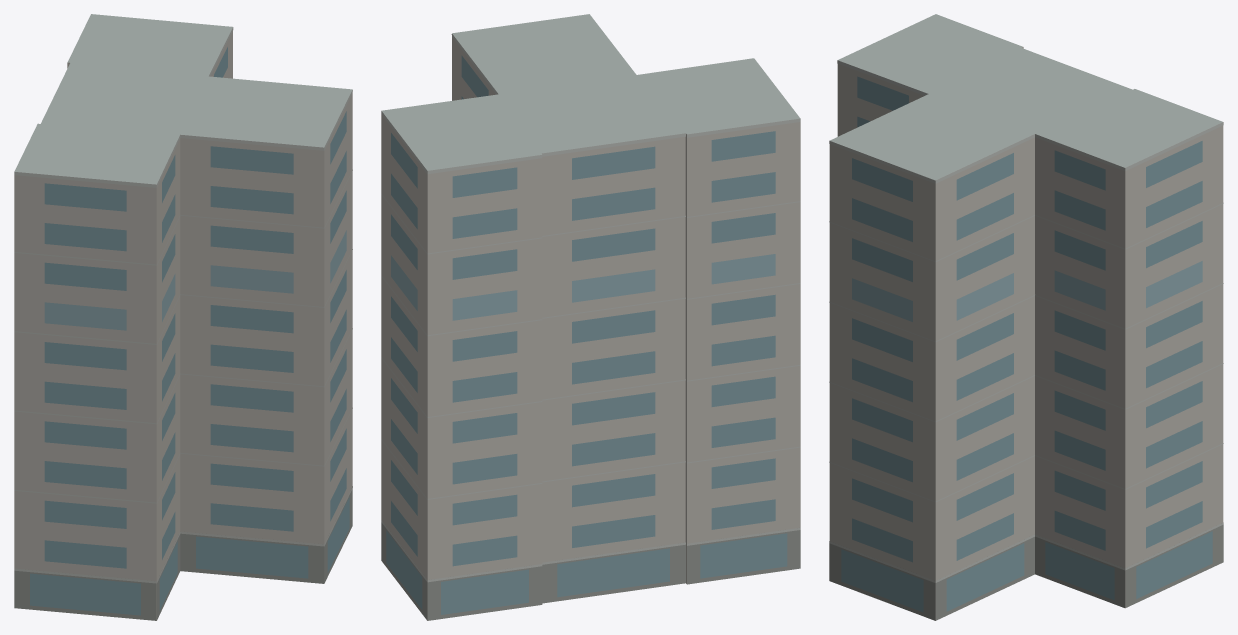
File: survey-upis-32522833.glb
3 renders of one model, left to right at view 1: azimuth 30°, elevation 25°; view 2: azimuth 150°, elevation 25°; view 3: azimuth 270°, elevation 25°, orthographic. The views are drawn at different scales.
Visible parts, largest first — view 1: survey-upis-32522833.tmp; view 2: survey-upis-32522833.tmp; view 3: survey-upis-32522833.tmp.
Boxes of the visible parts, x1,y1,x2,y2 form: survey-upis-32522833.tmp: [14, 14, 352, 620]; survey-upis-32522833.tmp: [381, 14, 800, 620]; survey-upis-32522833.tmp: [829, 14, 1223, 620].
Size of the model in its own units: 26.08 by 32.12 by 26.06.
